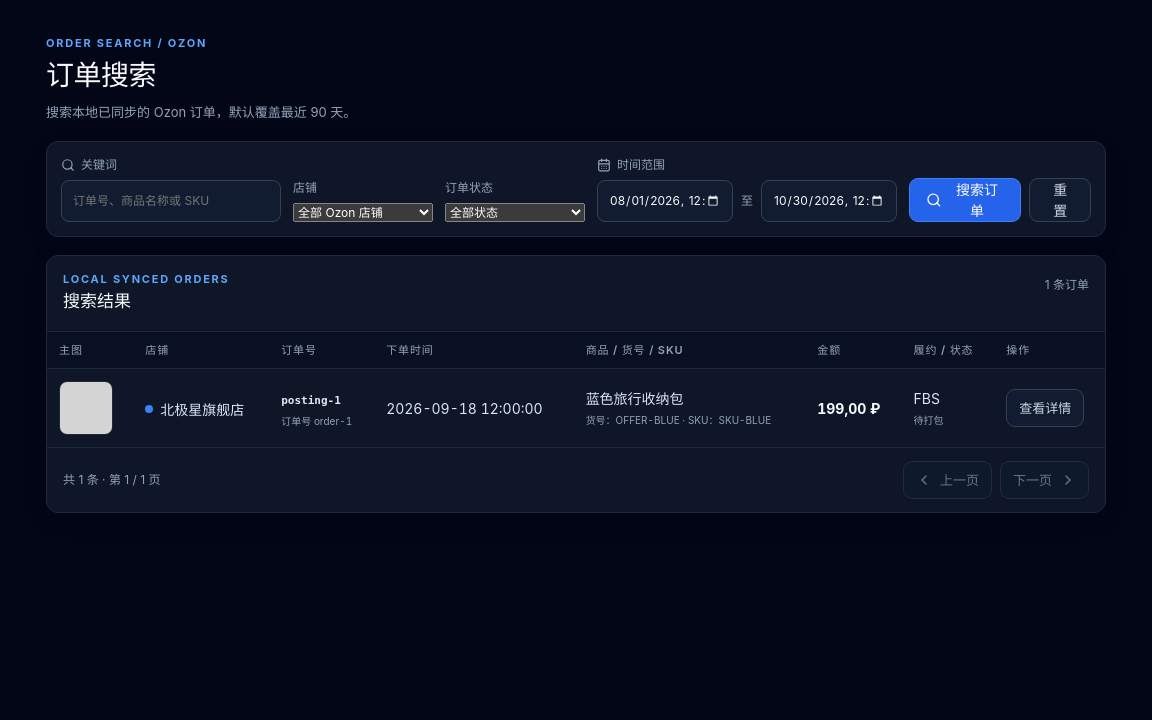
Test: OrderSearchPage › opens the existing order detail drawer from a result
The image size is (1152, 720).
What coordinates should you click on to do the following:
click the button "查看详情"
I would click on:
 (1045, 408)
Its box is left=1006, top=389, right=1084, bottom=427.
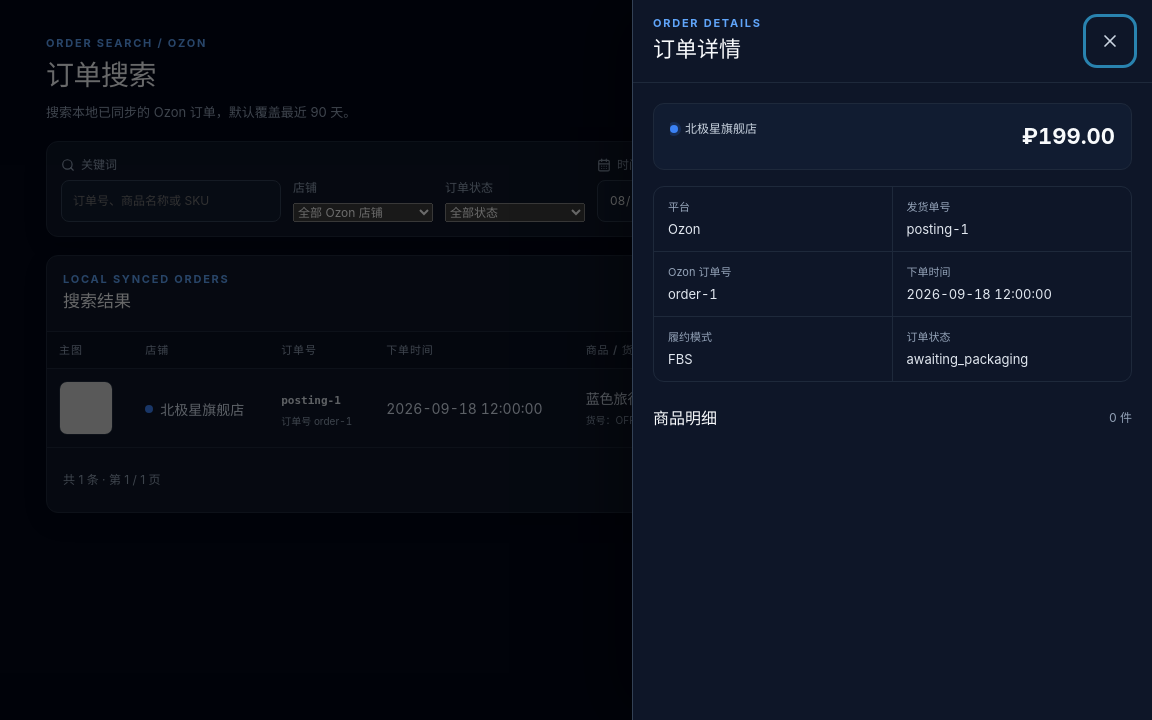
Result: the dialog "订单详情" is shown at left=632, top=0, right=1151, bottom=719
